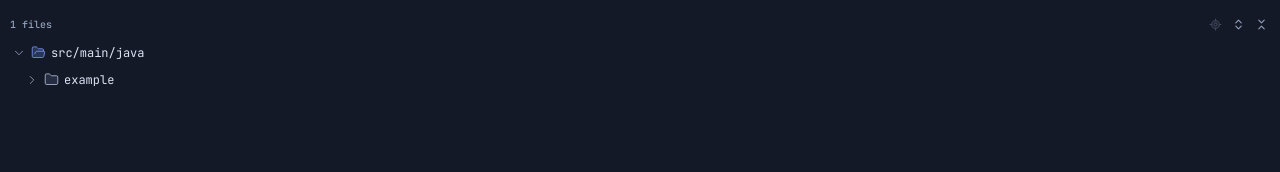
ProjectTree › keeps source roots visible and renders Core Java type metadata
Check: the icon named "Source directory" is shown, box [31, 45, 46, 60]
Click the button named "Expand all folders".
click(1238, 24)  # box [1227, 14, 1250, 35]
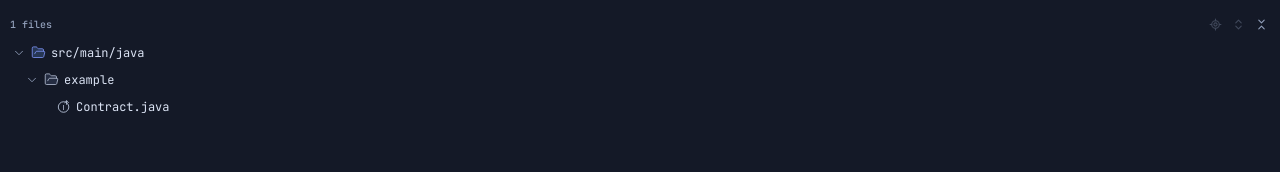
Check: the picture named "Interface · extends a type" is shown, box [57, 100, 71, 114]
